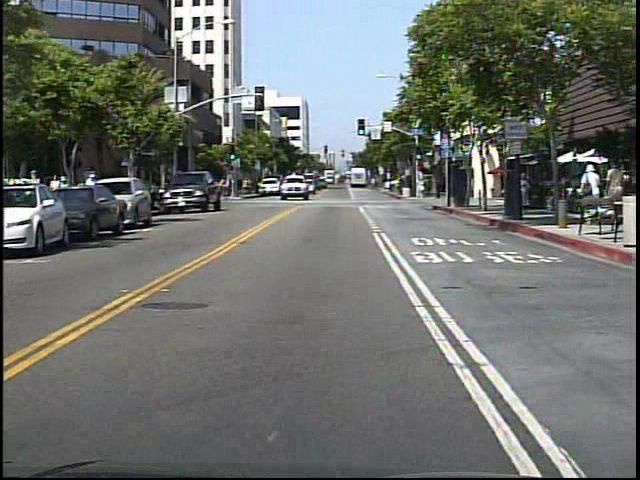person: (593, 158, 624, 226), (508, 169, 532, 214), (221, 174, 233, 201), (417, 178, 428, 200)
